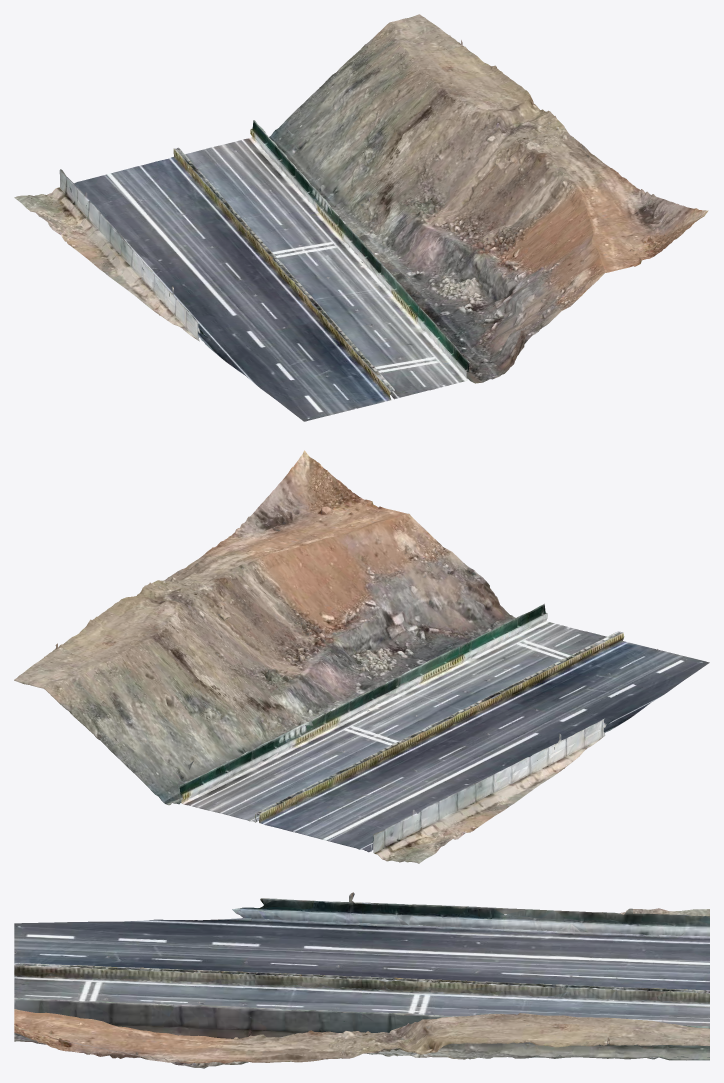
File: BlockBYAX_L19_9.glb
The picture shows the model from 3 angles, top to bottom: view 1: azimuth 30°, elevation 25°; view 2: azimuth 150°, elevation 25°; view 3: azimuth 270°, elevation 25°; orthographic projection. The views are drawn at different scales.
Visible parts, largest first — view 1: rtc; view 2: rtc; view 3: rtc.
Boxes of the visible parts, <box> form: rtc: <box>14,14,708,421</box>; rtc: <box>14,450,709,863</box>; rtc: <box>14,892,709,1068</box>.
Bounding box in the file's own units: 47.99 × 14.01 × 59.51.
2 materials, 2 textured.
